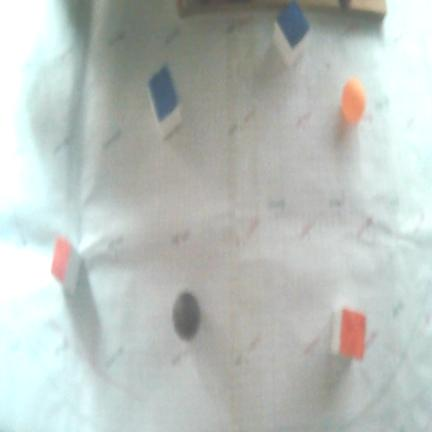circle_blue: (172, 291, 201, 342)
circle_orange: (342, 79, 365, 124)
rectangle_blue: (149, 65, 177, 119)
rectangle_orange: (49, 238, 71, 283)
square_blue: (276, 0, 309, 48)
square_orange: (339, 309, 366, 361)
